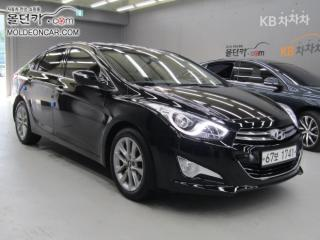1: (291, 148, 295, 157), (281, 150, 284, 160)
4: (288, 149, 291, 158)
6: (265, 153, 270, 163)
7: (284, 149, 289, 159), (270, 152, 274, 163)
plate: (258, 145, 299, 170)
보: (274, 152, 280, 161)
